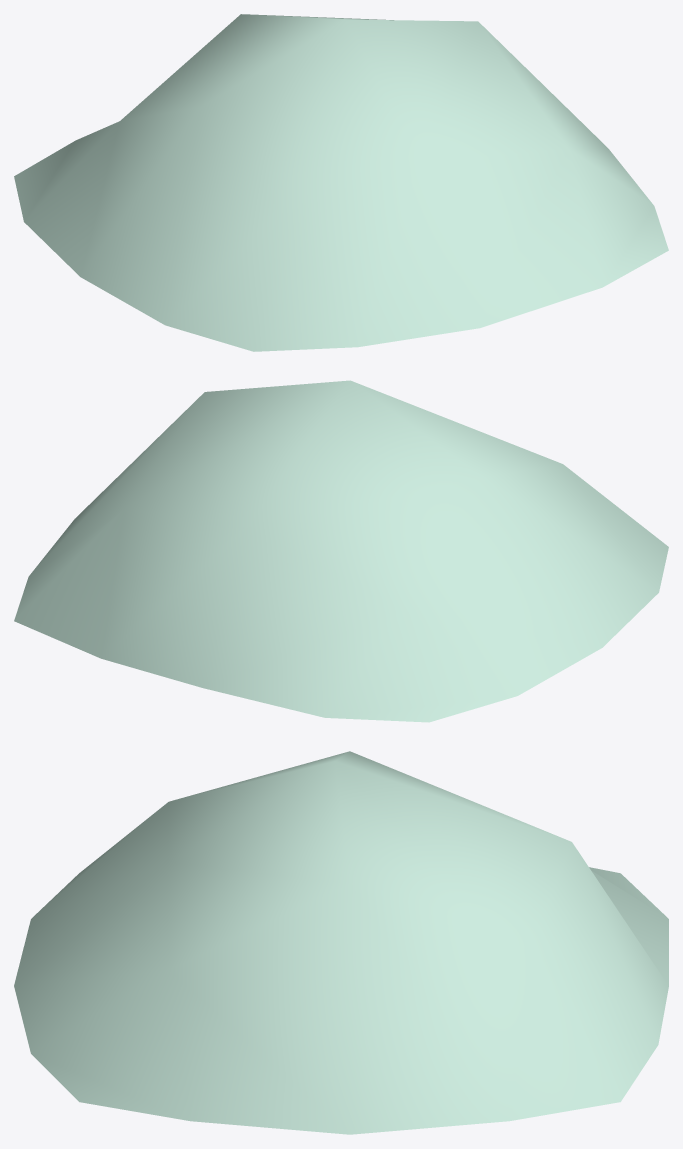
Rendered from snow-pile-v2.glb.
3 renders of one model, top to bottom at view 1: azimuth 30°, elevation 25°; view 2: azimuth 150°, elevation 25°; view 3: azimuth 270°, elevation 25°, orthographic. The views are drawn at different scales.
Parts seen in each view (by area): view 1: SnowPile_v2; view 2: SnowPile_v2; view 3: SnowPile_v2.
Part boxes in pixels (box(x1,y1,x2,y2)): SnowPile_v2: box(14, 14, 668, 351); SnowPile_v2: box(14, 380, 668, 722); SnowPile_v2: box(14, 751, 668, 1134).
Size of the model in its own units: 380 by 139 by 361.
1 material, 1 textured.
